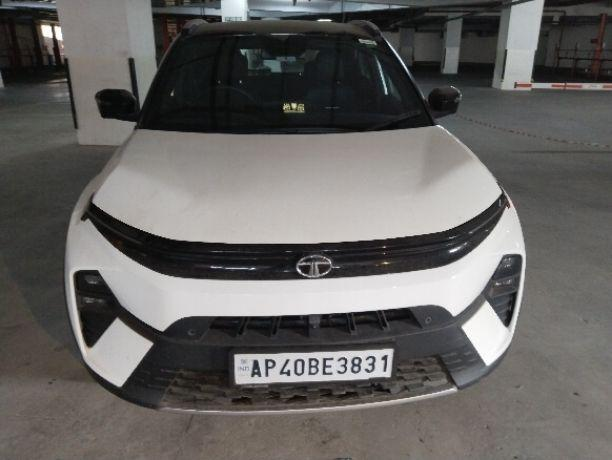license_plate: (228, 346, 395, 386)
